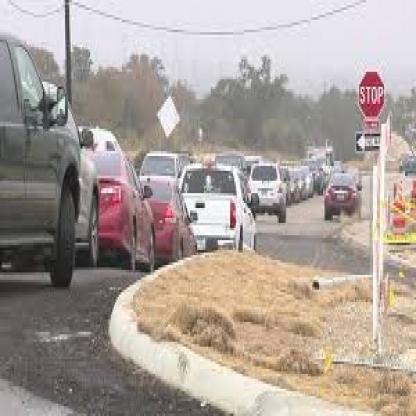car: (1, 29, 111, 318), (84, 123, 161, 273), (179, 136, 262, 272), (140, 167, 199, 260), (246, 156, 293, 222), (322, 170, 365, 235)
